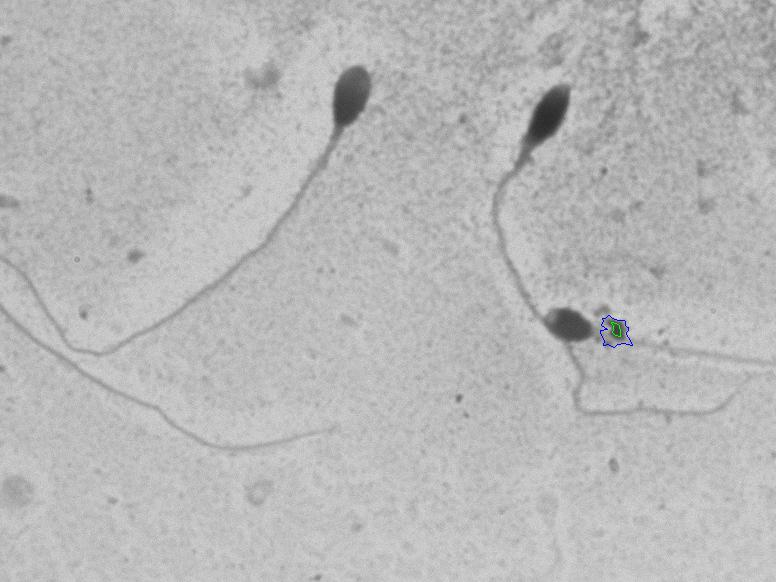Abnormal: (455, 57, 629, 295), (513, 284, 766, 415)
Normal: (30, 52, 419, 360)
